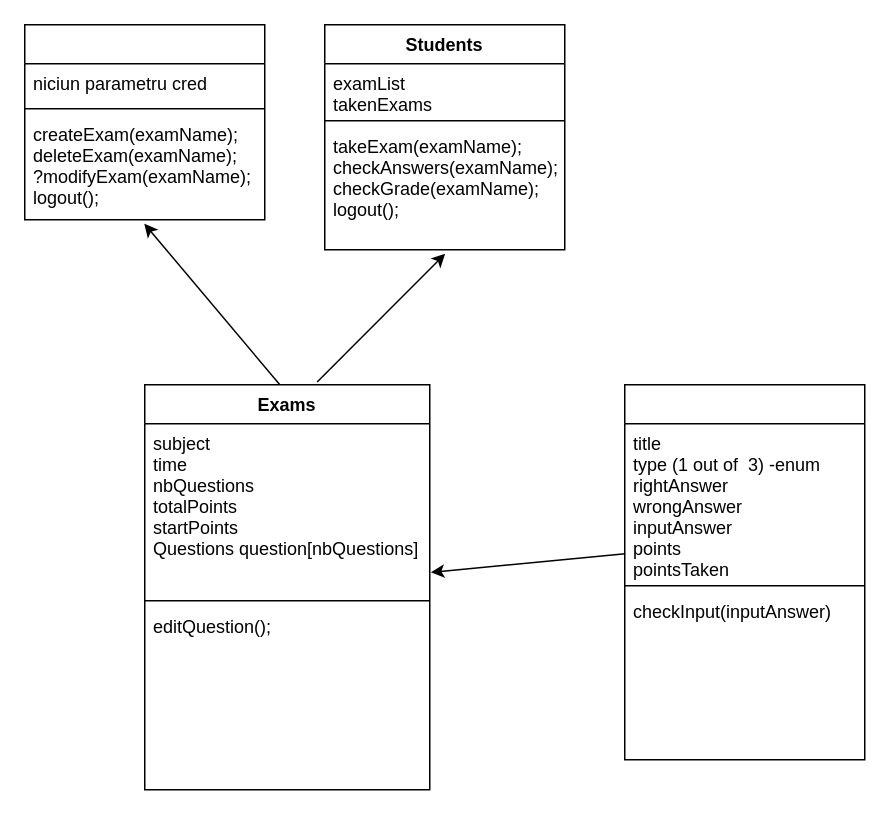
Some shapes in this 890 by 815 pixel diagram are drawn without their labels. Each missing label, with the box of its shape:
Professors: (23, 23, 265, 220)
Questions: (623, 383, 865, 760)
